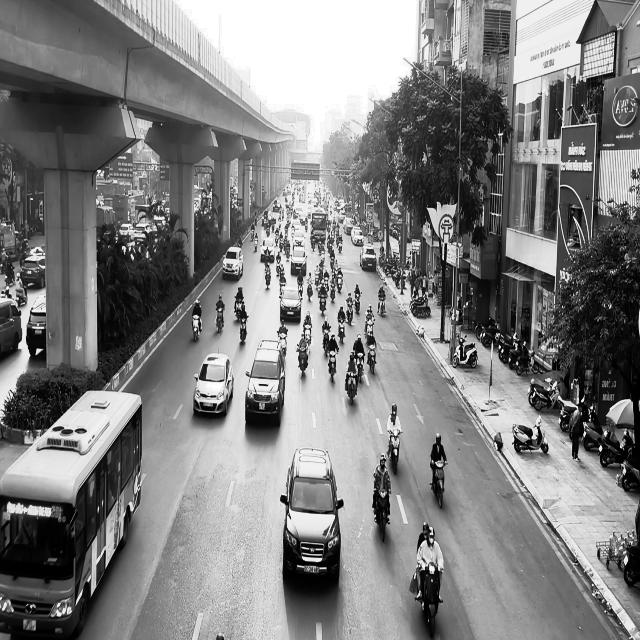bus: (0, 389, 143, 638)
car: (280, 446, 344, 583), (245, 338, 286, 427), (193, 351, 234, 416), (0, 296, 23, 356), (26, 293, 46, 357), (280, 286, 302, 321), (222, 246, 244, 280), (360, 244, 377, 271)
motorbike: (415, 561, 443, 637), (512, 415, 549, 454), (373, 485, 391, 542), (430, 459, 448, 508), (387, 428, 402, 474), (345, 368, 359, 405), (297, 342, 310, 376), (328, 348, 339, 382), (277, 328, 288, 358), (367, 344, 377, 374), (239, 314, 249, 343), (215, 306, 225, 333), (356, 352, 365, 382), (192, 315, 202, 341), (378, 293, 386, 316)
